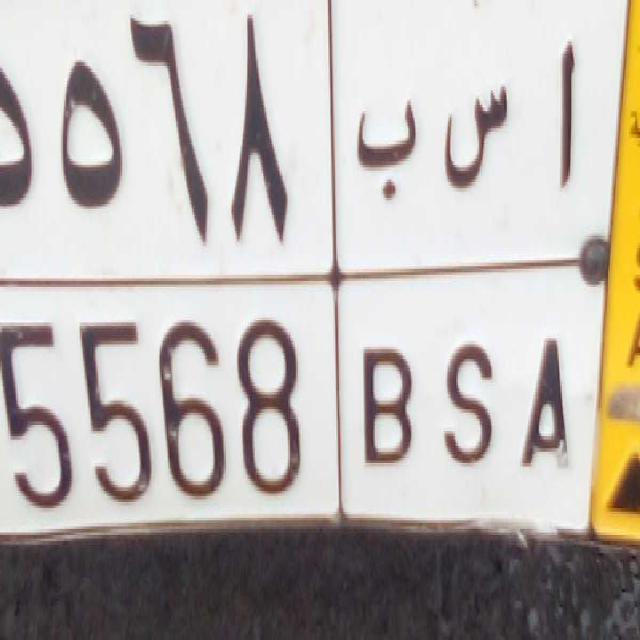license_plate: (0, 250, 593, 568)
